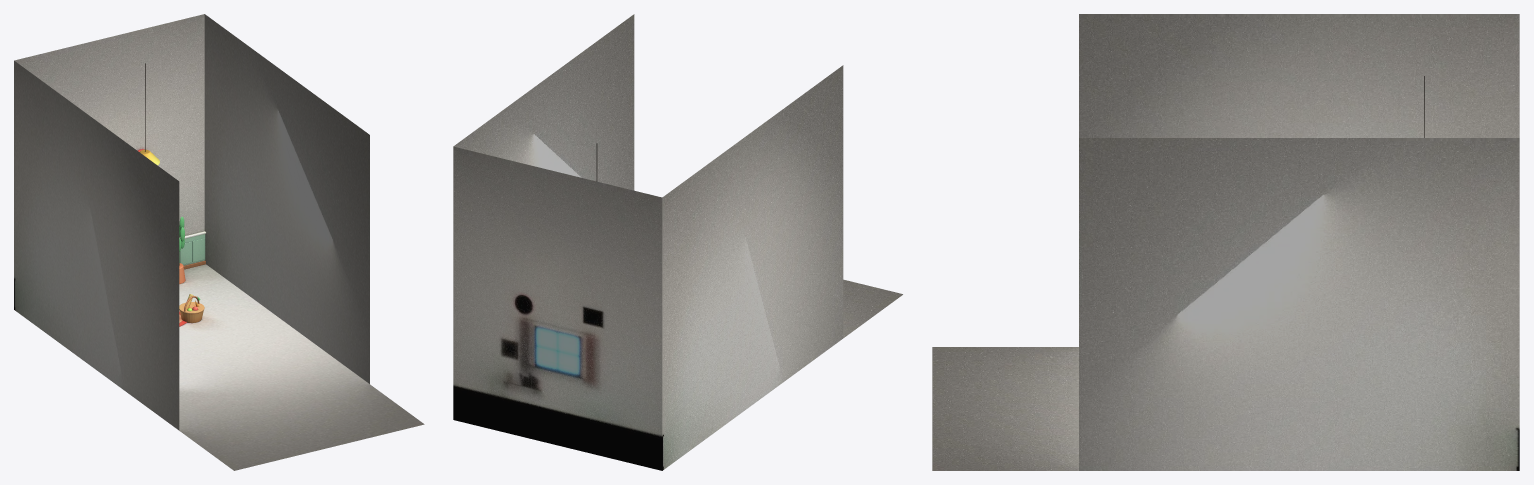
The model's file is room.glb.
3 views of the same model, side by side, from view 1: azimuth 30°, elevation 25°; view 2: azimuth 150°, elevation 25°; view 3: azimuth 270°, elevation 25° (orthographic). The views are drawn at different scales.
Visible parts, largest first — view 1: Walls, Floor, Decor, Basket; view 2: Walls, Floor; view 3: Walls, Floor.
Part boxes in pixels (x1,y1,x2,y2): Walls: [14, 14, 369, 430]; Floor: [179, 264, 424, 470]; Decor: [179, 231, 206, 269]; Basket: [179, 294, 204, 323]; Walls: [453, 14, 843, 470]; Floor: [843, 279, 902, 337]; Walls: [1079, 14, 1519, 470]; Floor: [932, 347, 1078, 470].
Size of the model in its own units: 8 by 10.02 by 16.
Materials: 3 (2 with a texture image).
